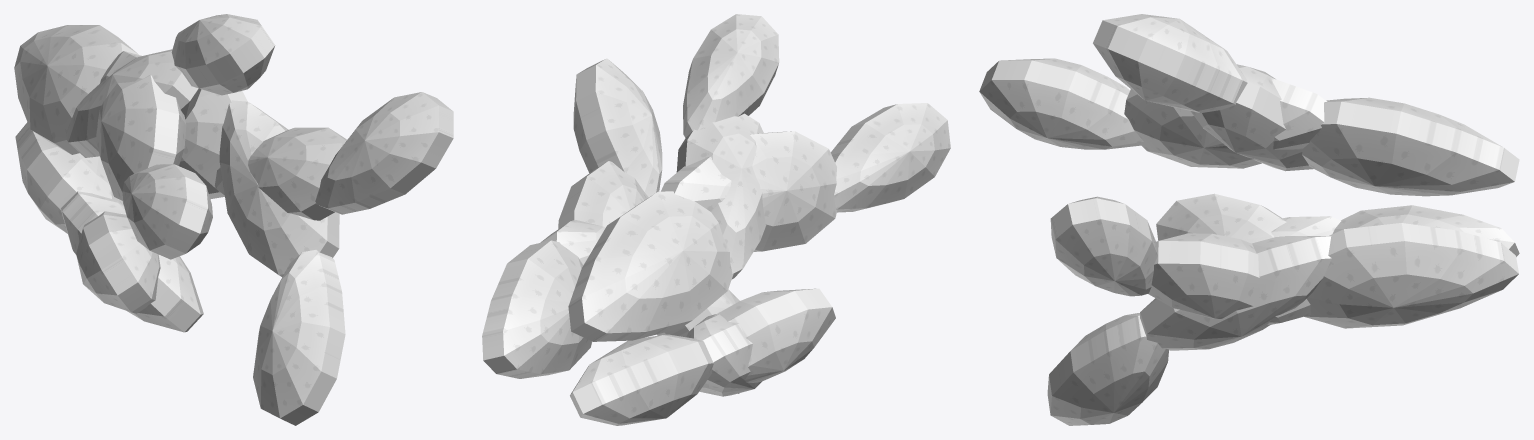
File: SM_Plant_PricklyPear.obj
3 renders of one model, left to right at view 1: azimuth 30°, elevation 25°; view 2: azimuth 150°, elevation 25°; view 3: azimuth 270°, elevation 25°, orthographic. The views are drawn at different scales.
Parts seen in each view (by area): view 1: SM_Plant_PricklyPear; view 2: SM_Plant_PricklyPear; view 3: SM_Plant_PricklyPear.
Part boxes in pixels (bbox=[...]): SM_Plant_PricklyPear: bbox=[14, 14, 453, 425]; SM_Plant_PricklyPear: bbox=[482, 14, 950, 425]; SM_Plant_PricklyPear: bbox=[979, 14, 1519, 425].
Bounding box in the file's own units: 87.17 × 98.05 × 121.
Materials: 1 (1 with a texture image).
